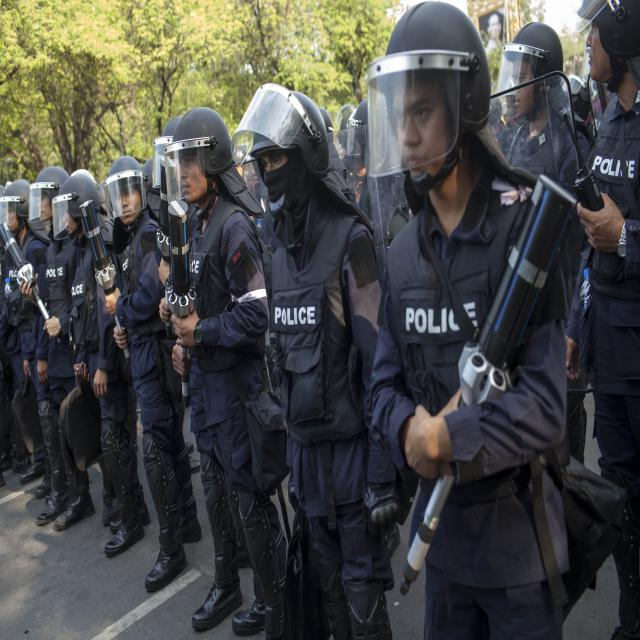police: (357, 0, 601, 640), (232, 46, 404, 630), (154, 89, 283, 640), (0, 125, 135, 571), (96, 108, 207, 640)
